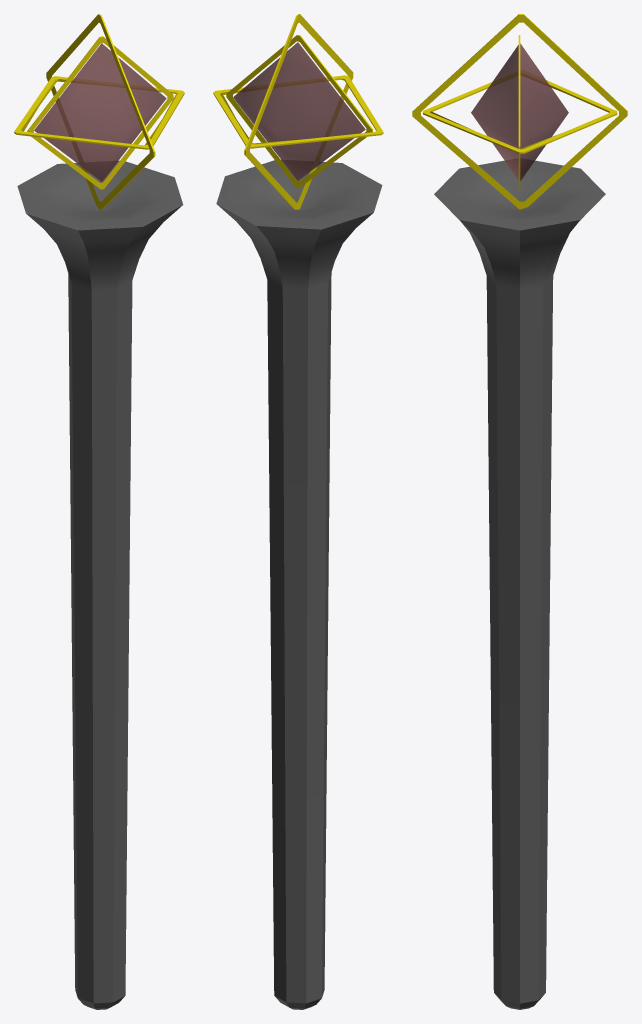
Rendered from high staff.fbx.
The picture shows the model from 3 angles, left to right: view 1: azimuth 30°, elevation 25°; view 2: azimuth 150°, elevation 25°; view 3: azimuth 270°, elevation 25°; orthographic projection.
Parts seen in each view (by area): view 1: polySurface9; view 2: polySurface9; view 3: polySurface9.
Part boxes in pixels (x1,y1,x2,y2): polySurface9: (14, 14, 184, 1009); polySurface9: (213, 14, 383, 1009); polySurface9: (412, 14, 627, 1009).
Bounding box in the file's own units: 74.55 × 421 × 82.56.
